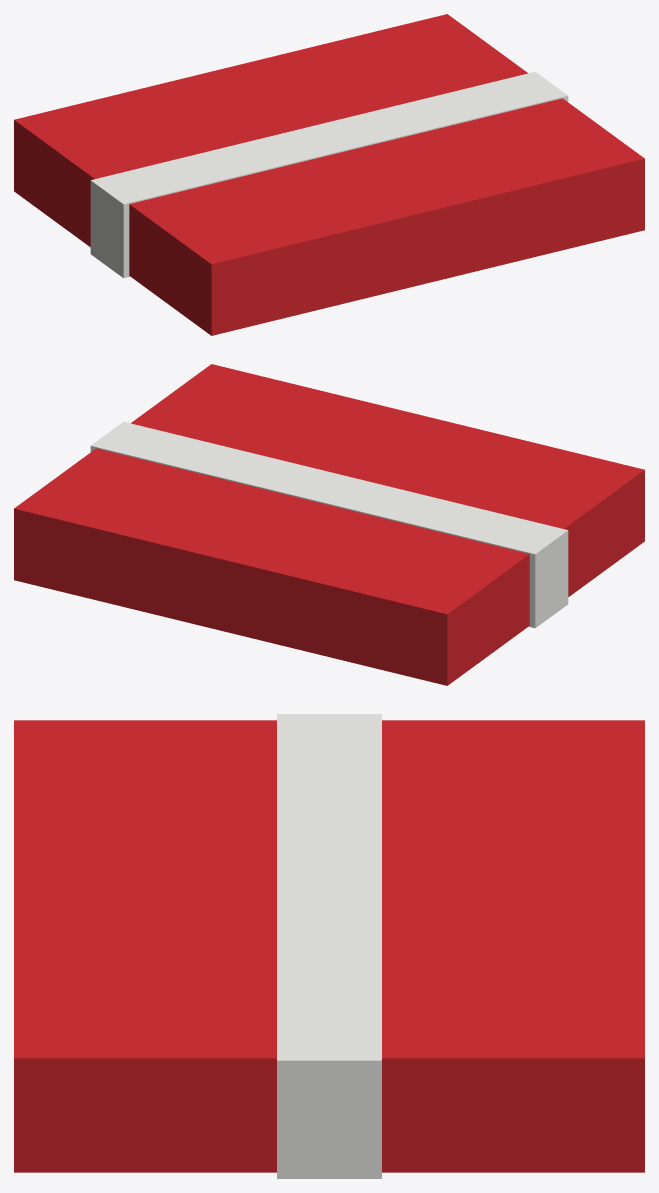
The model's file is folded_gym_tank.glb.
3 views of the same model, one above another, from view 1: azimuth 30°, elevation 25°; view 2: azimuth 150°, elevation 25°; view 3: azimuth 270°, elevation 25° (orthographic). The views are drawn at different scales.
Visible parts, largest first — view 1: tank_gym_red, stripe_gym_white; view 2: tank_gym_red, stripe_gym_white; view 3: tank_gym_red, stripe_gym_white.
Boxes of the visible parts, x1,y1,x2,y2 form: tank_gym_red: (14,14,644,335); stripe_gym_white: (90,71,568,278); tank_gym_red: (14,364,644,685); stripe_gym_white: (90,421,568,628); tank_gym_red: (14,720,644,1172); stripe_gym_white: (277,714,381,1178).
Bounding box in the file's own units: 0.39 × 0.062 × 0.3.
